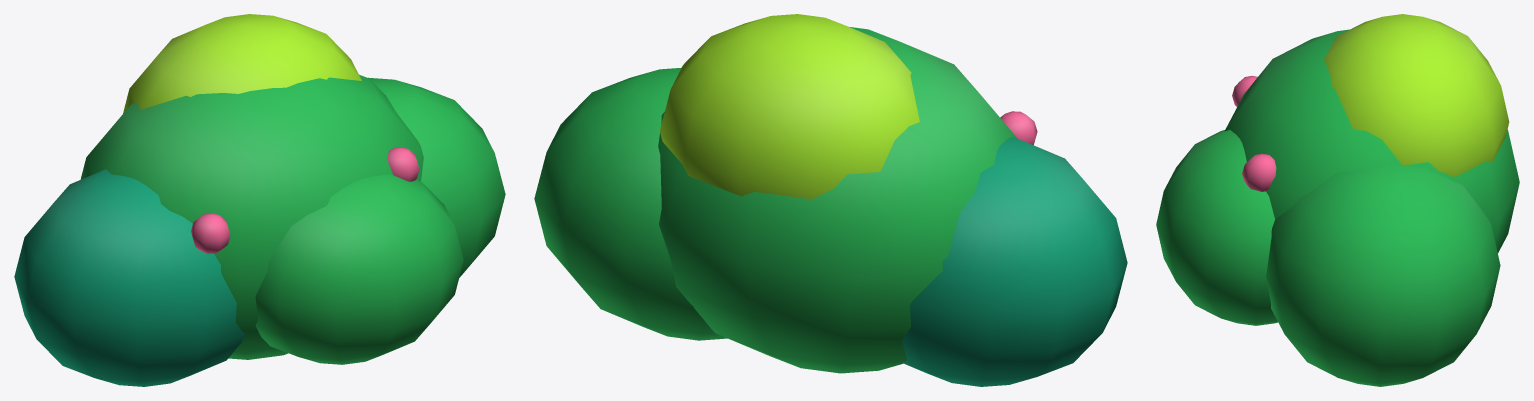
Rendered from RoundBush.fbx.
3 views of the same model, side by side, from view 1: azimuth 30°, elevation 25°; view 2: azimuth 150°, elevation 25°; view 3: azimuth 270°, elevation 25° (orthographic). The views are drawn at different scales.
Parts seen in each view (by area): view 1: RoundBush; view 2: RoundBush; view 3: RoundBush.
Part boxes in pixels (x1,y1,x2,y2): RoundBush: (14, 14, 505, 386); RoundBush: (534, 14, 1127, 386); RoundBush: (1156, 14, 1519, 386).
Size of the model in its own units: 2.71 by 1.62 by 1.81.
1 material, 1 textured.
